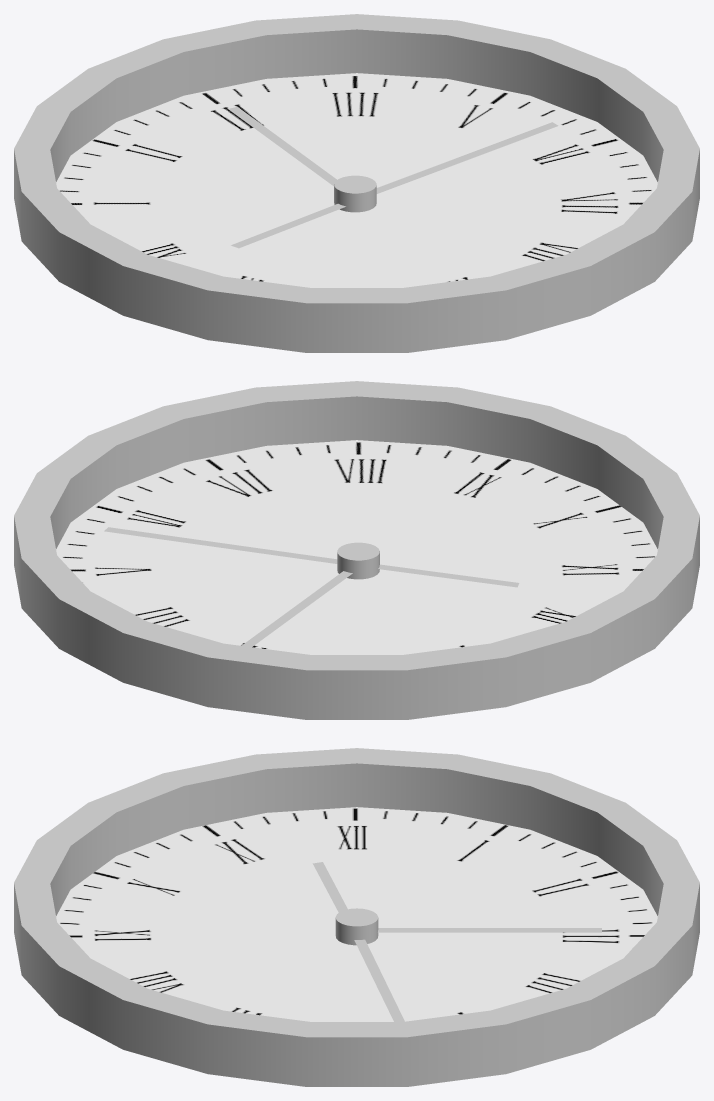
File: Clock.FBX
3 views of the same model, one above another, from view 1: azimuth 30°, elevation 25°; view 2: azimuth 150°, elevation 25°; view 3: azimuth 270°, elevation 25° (orthographic).
Visible parts, largest first — view 1: Circle001, Cylinder005, Line002, Line001; view 2: Circle001, Cylinder005, Line002, Line001; view 3: Circle001, Cylinder005, Line002, Line001.
Boxes of the visible parts, left/top/right/bottom form: Circle001: left=56, top=73, right=657, bottom=287; Cylinder005: left=14, top=14, right=699, bottom=352; Line002: left=231, top=122, right=558, bottom=248; Line001: left=228, top=106, right=336, bottom=186; Circle001: left=56, top=440, right=657, bottom=654; Cylinder005: left=14, top=381, right=699, bottom=719; Line002: left=104, top=527, right=519, bottom=587; Line001: left=241, top=571, right=352, bottom=647; Circle001: left=56, top=807, right=657, bottom=1021; Cylinder005: left=14, top=748, right=699, bottom=1086; Line002: left=312, top=862, right=404, bottom=1021; Line001: left=378, top=928, right=601, bottom=932.
Bounding box in the file's own units: 30.02 × 2.41 × 30.1.
Materials: 1 (1 with a texture image).
